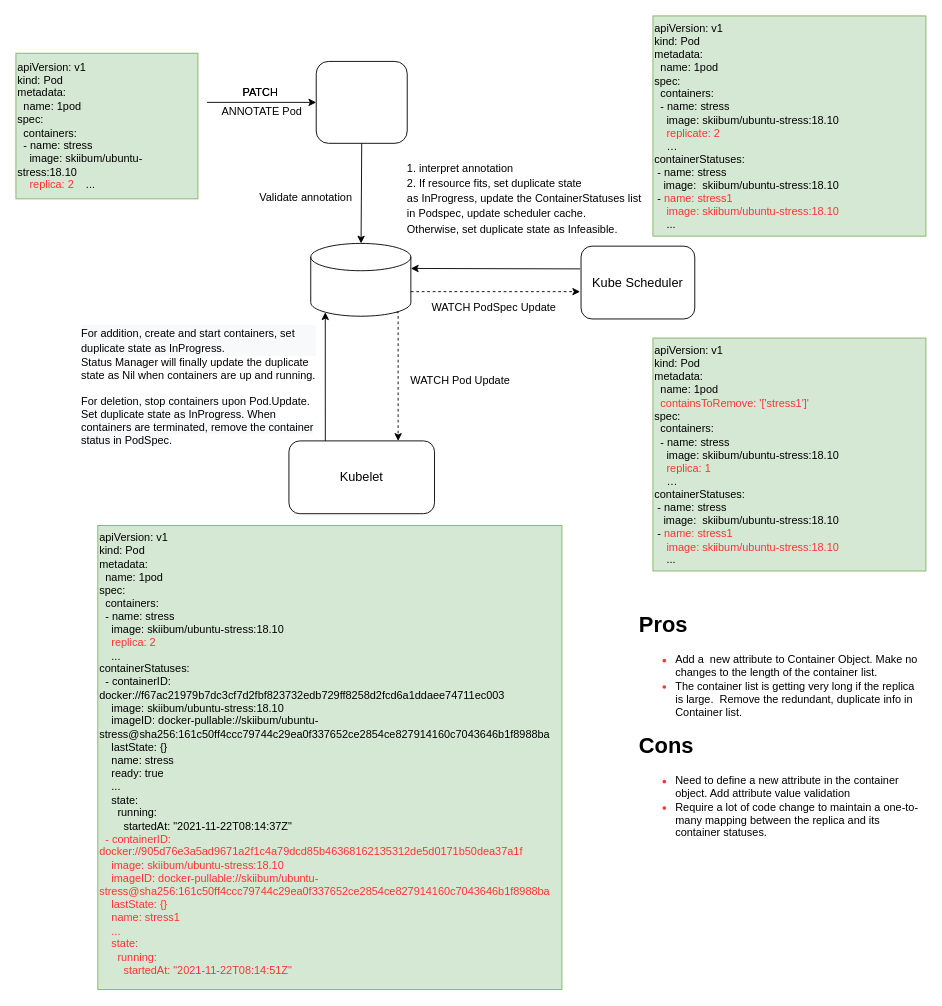
Some shapes in this 942 by 1006 pixel diagram are drawn without their labels. Here are the shapes that lost their labels. From the top down, the box of each, then its label:
(315, 61, 407, 143): Kube ApiServer
(310, 243, 411, 316): Etcd
